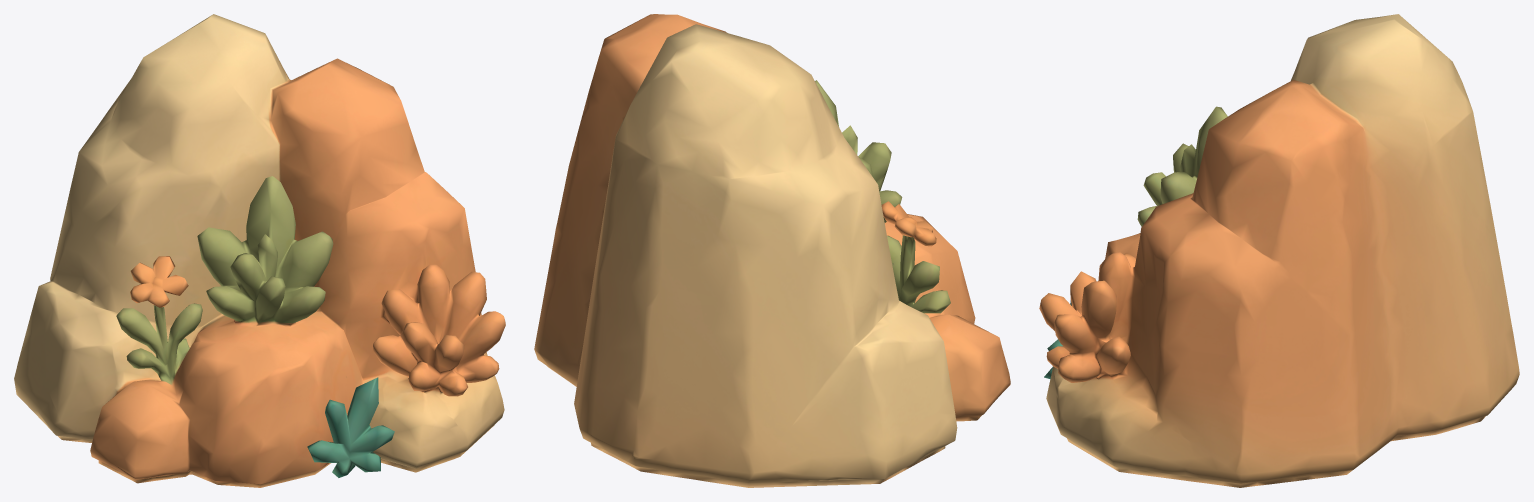
Rendered from rocas_1.glb.
3 views of the same model, side by side, from view 1: azimuth 30°, elevation 25°; view 2: azimuth 150°, elevation 25°; view 3: azimuth 270°, elevation 25° (orthographic). The views are drawn at different scales.
Visible parts, largest first — view 1: tripo_node_b7cc7730-93d6-4dac-ba8f-3e3365450246; view 2: tripo_node_b7cc7730-93d6-4dac-ba8f-3e3365450246; view 3: tripo_node_b7cc7730-93d6-4dac-ba8f-3e3365450246.
Boxes of the visible parts, left/top/right/bottom form: tripo_node_b7cc7730-93d6-4dac-ba8f-3e3365450246: left=14, top=14, right=505, bottom=487; tripo_node_b7cc7730-93d6-4dac-ba8f-3e3365450246: left=534, top=14, right=1010, bottom=487; tripo_node_b7cc7730-93d6-4dac-ba8f-3e3365450246: left=1039, top=14, right=1519, bottom=487.
Size of the model in its own units: 0.9825 by 0.844 by 0.9891.
Materials: 1 (1 with a texture image).
